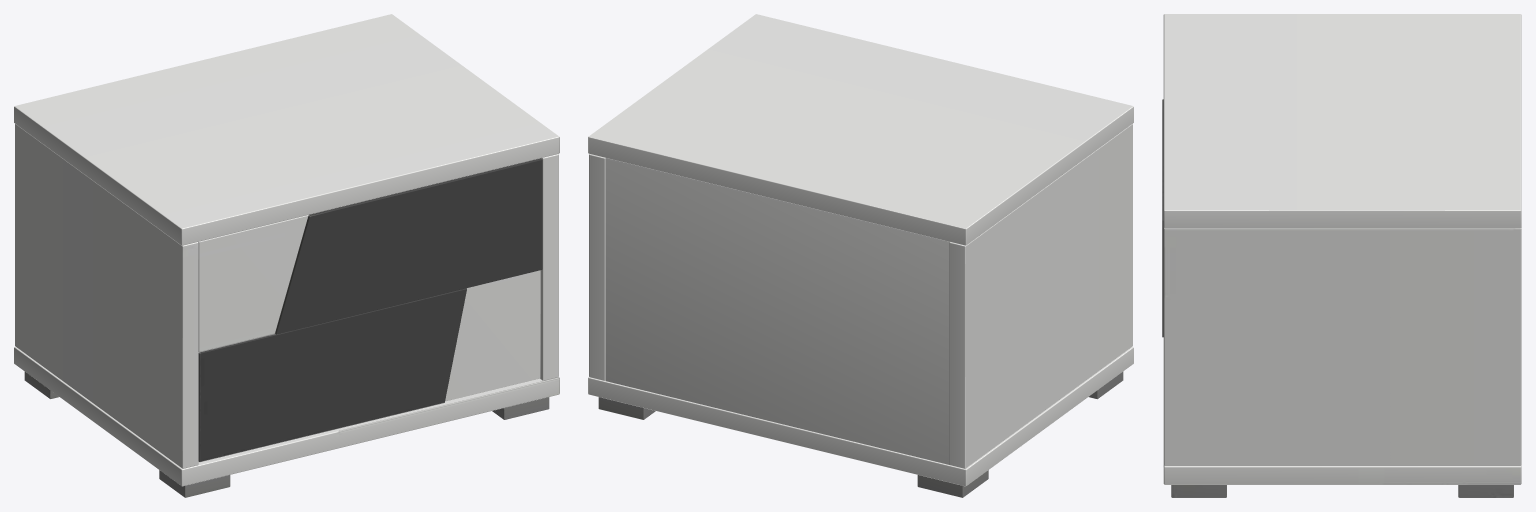
File: side_table_abo_B07H8JN9KN.glb
The picture shows the model from 3 angles, left to right: view 1: azimuth 30°, elevation 25°; view 2: azimuth 150°, elevation 25°; view 3: azimuth 270°, elevation 25°; orthographic projection. The views are drawn at different scales.
Visible parts, largest first — view 1: RootNode; view 2: RootNode; view 3: RootNode.
Boxes of the visible parts, left/top/right/bottom form: RootNode: left=14, top=14, right=559, bottom=497; RootNode: left=588, top=14, right=1133, bottom=497; RootNode: left=1162, top=14, right=1521, bottom=497.
Bounding box in the file's own units: 0.517 × 0.3574 × 0.3991.
1 material, 1 textured.
